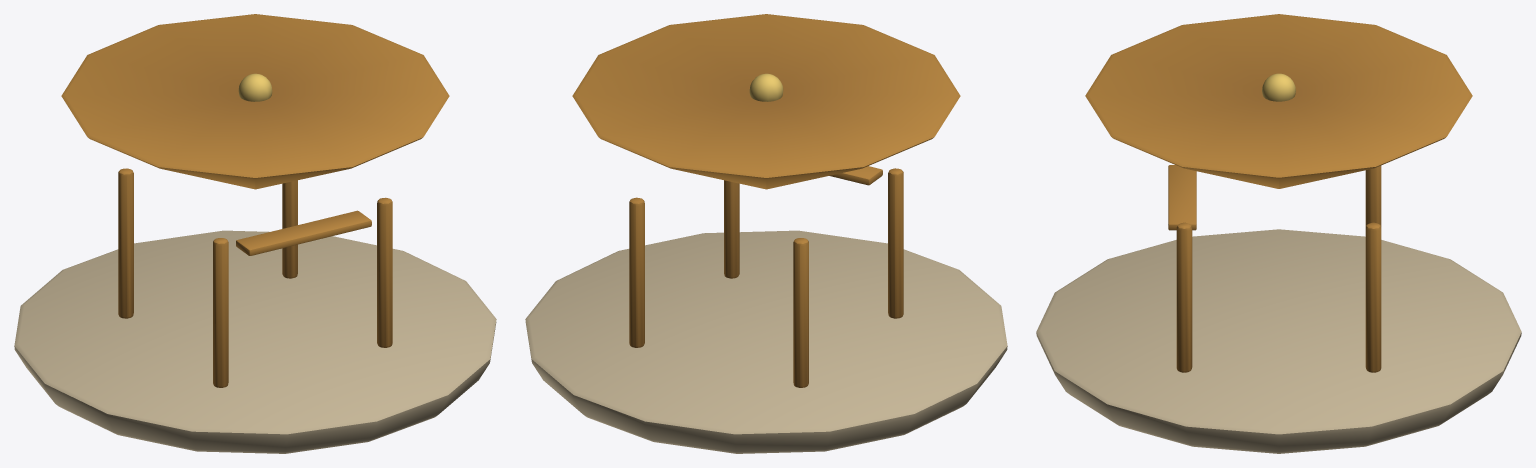
3 views of the same model, side by side, from view 1: azimuth 30°, elevation 25°; view 2: azimuth 150°, elevation 25°; view 3: azimuth 270°, elevation 25° (orthographic).
Visible parts, largest first — view 1: landmark_d35f7e12; view 2: landmark_d35f7e12; view 3: landmark_d35f7e12.
Part boxes in pixels (bbox=[...]): landmark_d35f7e12: bbox=[14, 14, 496, 453]; landmark_d35f7e12: bbox=[525, 14, 1007, 453]; landmark_d35f7e12: bbox=[1036, 14, 1521, 453].
Size of the model in its own units: 5.13 by 3.33 by 5.13.
